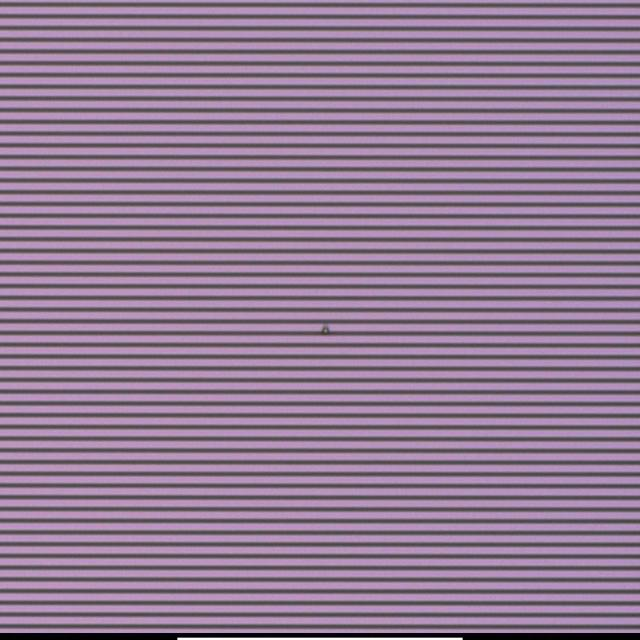03_intrusion: (320, 324, 332, 337)
